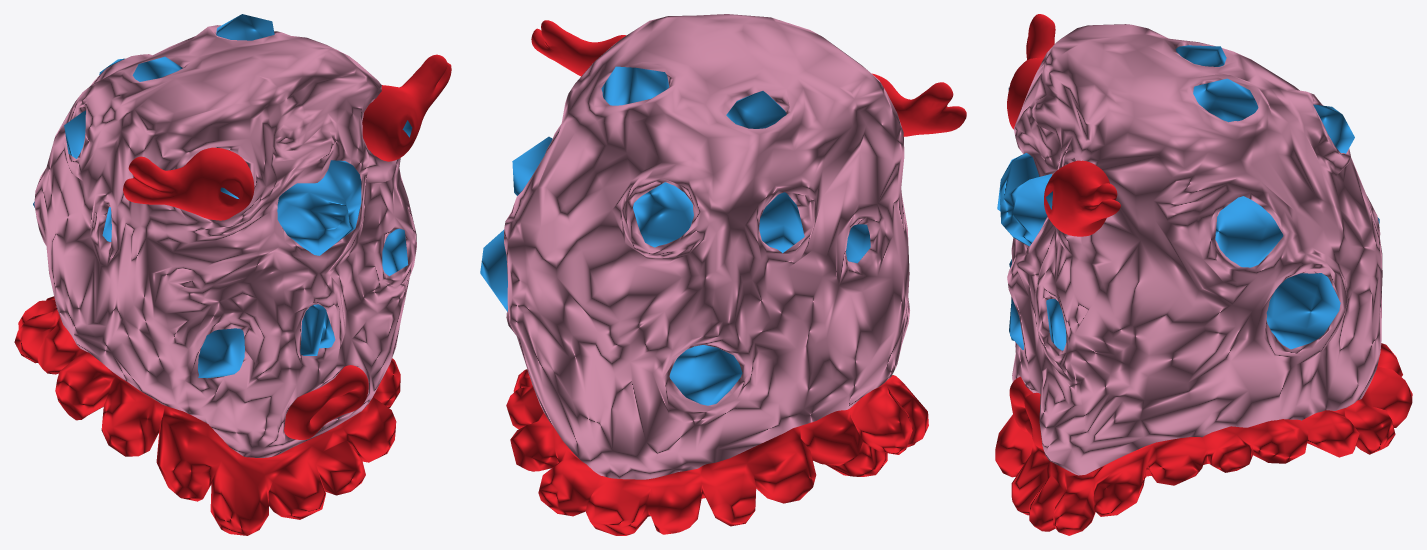
3 views of the same model, side by side, from view 1: azimuth 30°, elevation 25°; view 2: azimuth 150°, elevation 25°; view 3: azimuth 270°, elevation 25° (orthographic). The views are drawn at different scales.
Parts seen in each view (by area): view 1: Object002, Object006, Object001, Group28409, Object003, Object005, Object004; view 2: Object002, Object006, Group28409, Object001; view 3: Object002, Object006, Group28409, Object001, Object003, Object005.
Boxes of the visible parts, x1=… form: Object002: x1=34, y1=25, x2=416, y2=457; Object006: x1=14, y1=296, x2=400, y2=535; Object001: x1=123, y1=54, x2=451, y2=220; Group28409: x1=33, y1=14, x2=412, y2=378; Object003: x1=277, y1=160, x2=361, y2=255; Object005: x1=284, y1=365, x2=368, y2=439; Object004: x1=300, y1=304, x2=335, y2=355; Object002: x1=504, y1=14, x2=909, y2=479; Object006: x1=506, y1=369, x2=928, y2=535; Group28409: x1=480, y1=66, x2=870, y2=405; Object001: x1=531, y1=20, x2=966, y2=136; Object002: x1=1007, y1=24, x2=1382, y2=475; Object006: x1=995, y1=343, x2=1412, y2=535; Group28409: x1=1008, y1=45, x2=1379, y2=350; Object001: x1=1007, y1=14, x2=1120, y2=236; Object003: x1=997, y1=153, x2=1051, y2=246; Object005: x1=1009, y1=376, x2=1042, y2=448.
Bounding box in the file's own units: 0.6149 × 0.6988 × 0.5774.
